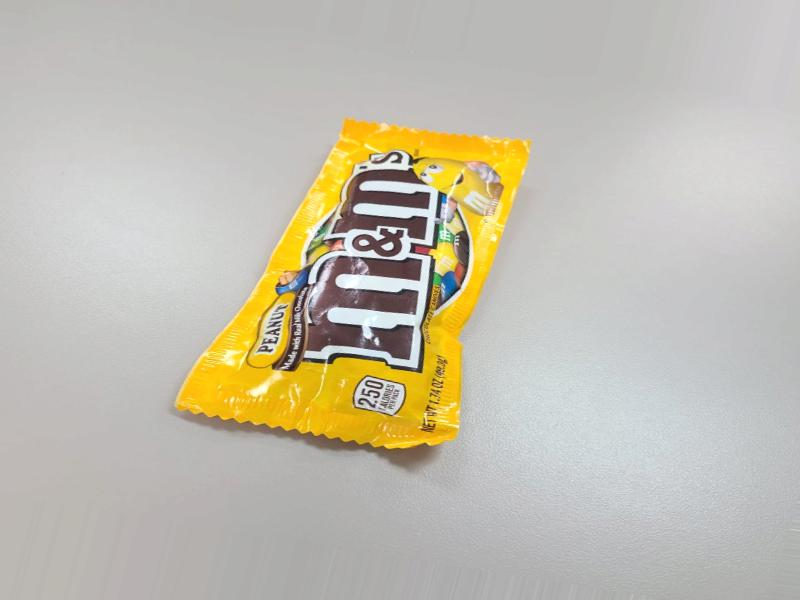m&m: (189, 114, 520, 449)
